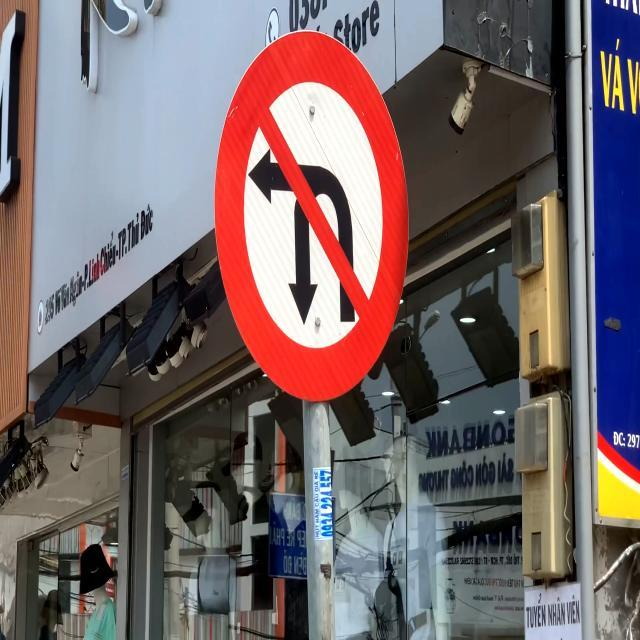P-124c: (214, 28, 410, 399)
